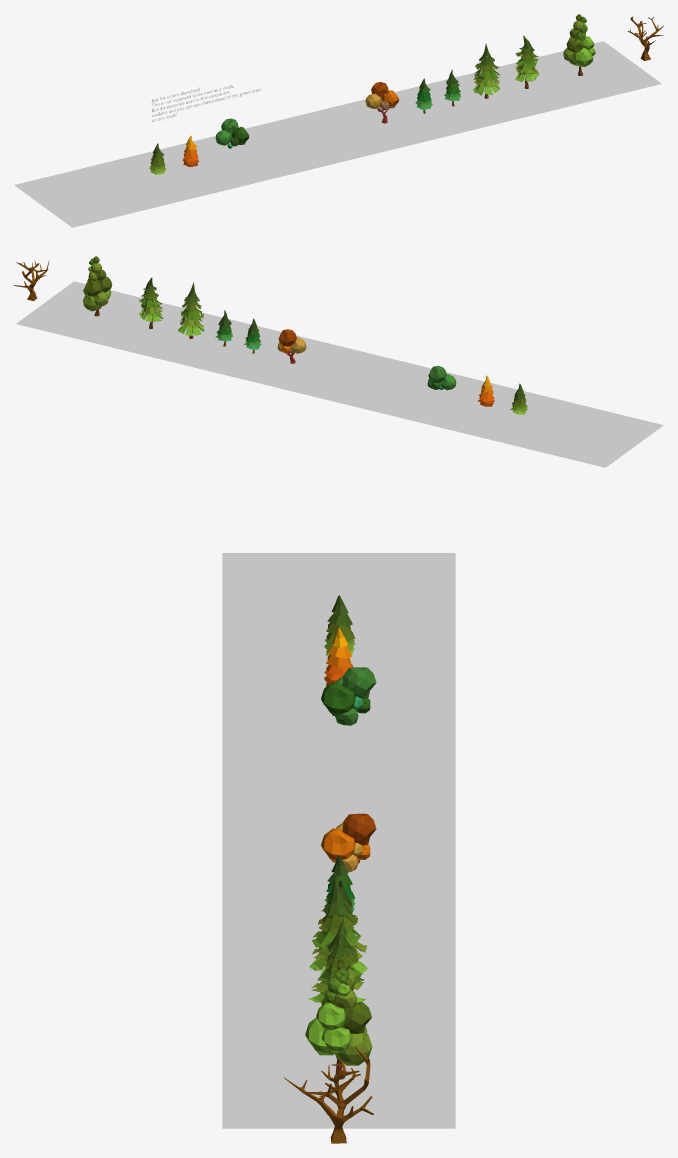
File: trees.glb
3 renders of one model, top to bottom at view 1: azimuth 30°, elevation 25°; view 2: azimuth 150°, elevation 25°; view 3: azimuth 270°, elevation 25°, orthographic. The views are drawn at different scales.
Parts seen in each view (by area): view 1: Plane, Plane.001, Text.001, Cube.001; view 2: Plane.001, Plane, Cube.001; view 3: Plane, Plane.001, Cube.001.
Part boxes in pixels (x1=…): Plane: x1=61, y1=41, x2=661, y2=216; Plane.001: x1=14, y1=53, x2=577, y2=227; Text.001: x1=151, y1=85, x2=260, y2=121; Cube.001: x1=627, y1=16, x2=663, y2=60; Plane.001: x1=86, y1=293, x2=663, y2=467; Plane: x1=16, y1=281, x2=613, y2=455; Cube.001: x1=14, y1=260, x2=49, y2=301; Plane: x1=222, y1=598, x2=455, y2=1128; Plane.001: x1=222, y1=553, x2=455, y2=1083; Cube.001: x1=284, y1=1047, x2=373, y2=1143.
Size of the model in its own units: 561 by 70.54 by 91.75.
